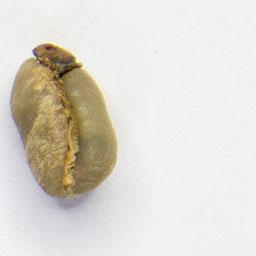defect: (7, 40, 121, 201)
